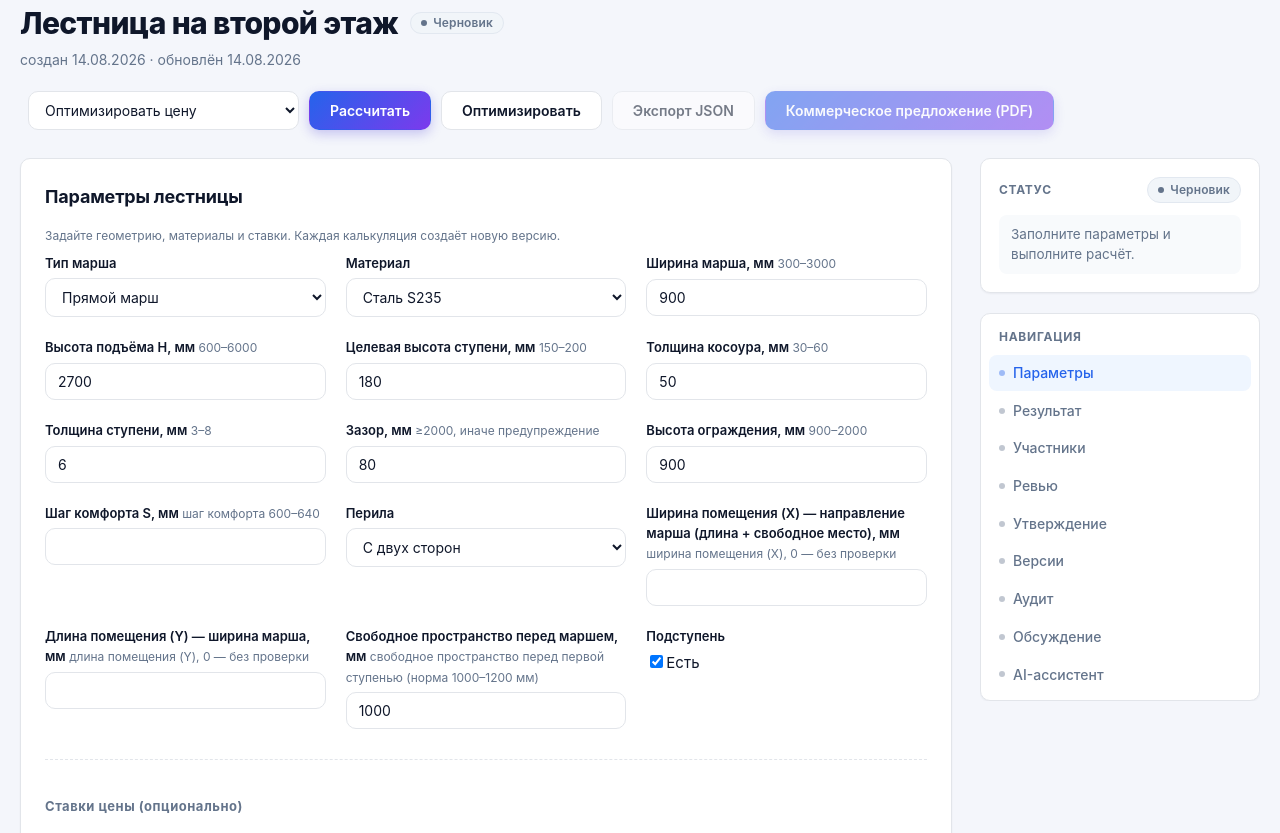
Test case: ProjectDetail › показывает сообщение, когда оптимизация не находит конфигурацию
Check: the heading "Лестница на второй этаж Черновик" is shown, box [20,5,504,41]
Step 1. Click the button "Оптимизировать" → point(521, 110), box [441,91,602,130]
(page scrolled)
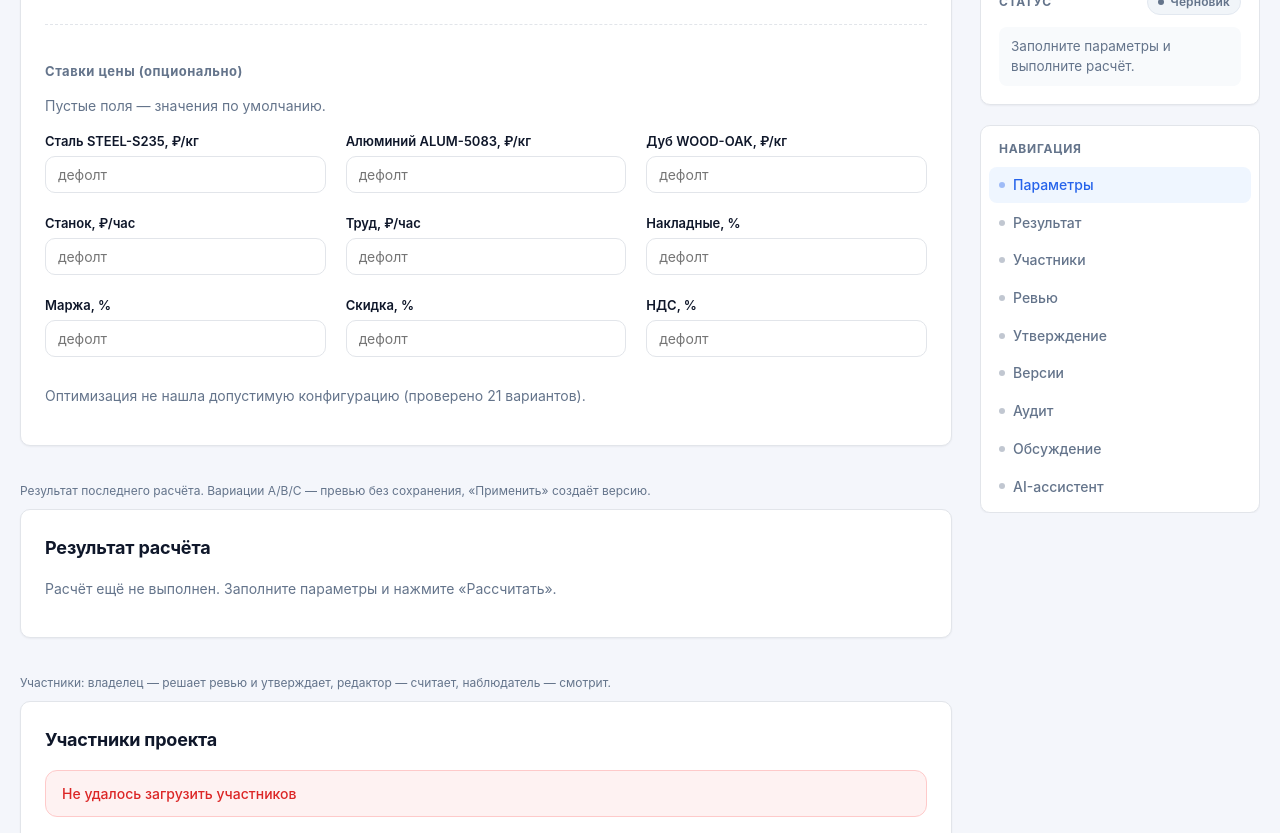
Check: the text "не нашла допустимую конфигурацию" is shown, box [45,387,586,404]
